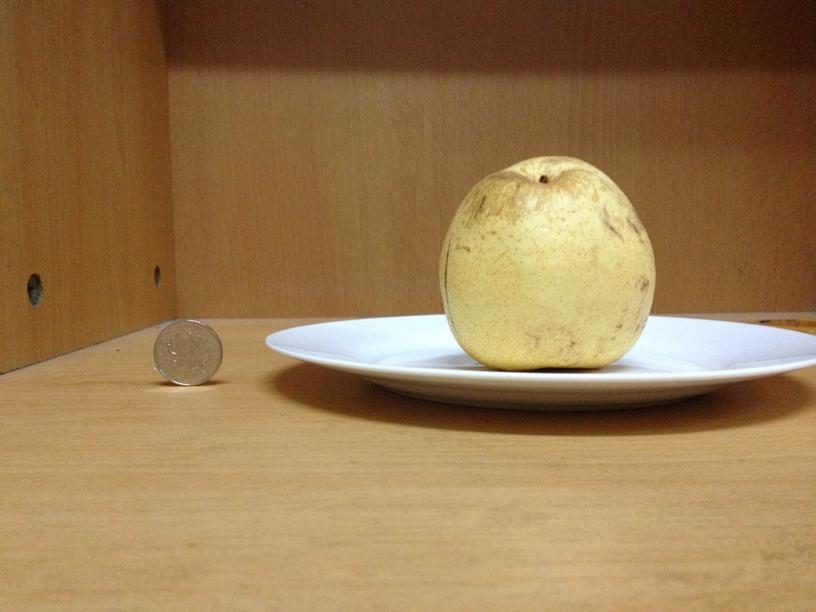coin: (148, 314, 223, 388)
pear: (430, 149, 656, 370)
